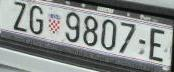-: (139, 39, 145, 44)
0: (102, 19, 115, 49)
7: (120, 23, 136, 52)
8: (84, 16, 97, 46)
9: (66, 12, 79, 42)
E: (150, 28, 162, 61)
G: (30, 5, 43, 34)
Z: (14, 1, 26, 32)
